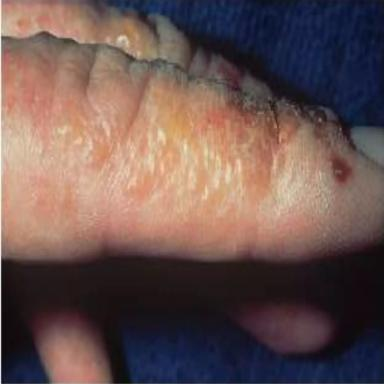eczema: (2, 2, 357, 220)
